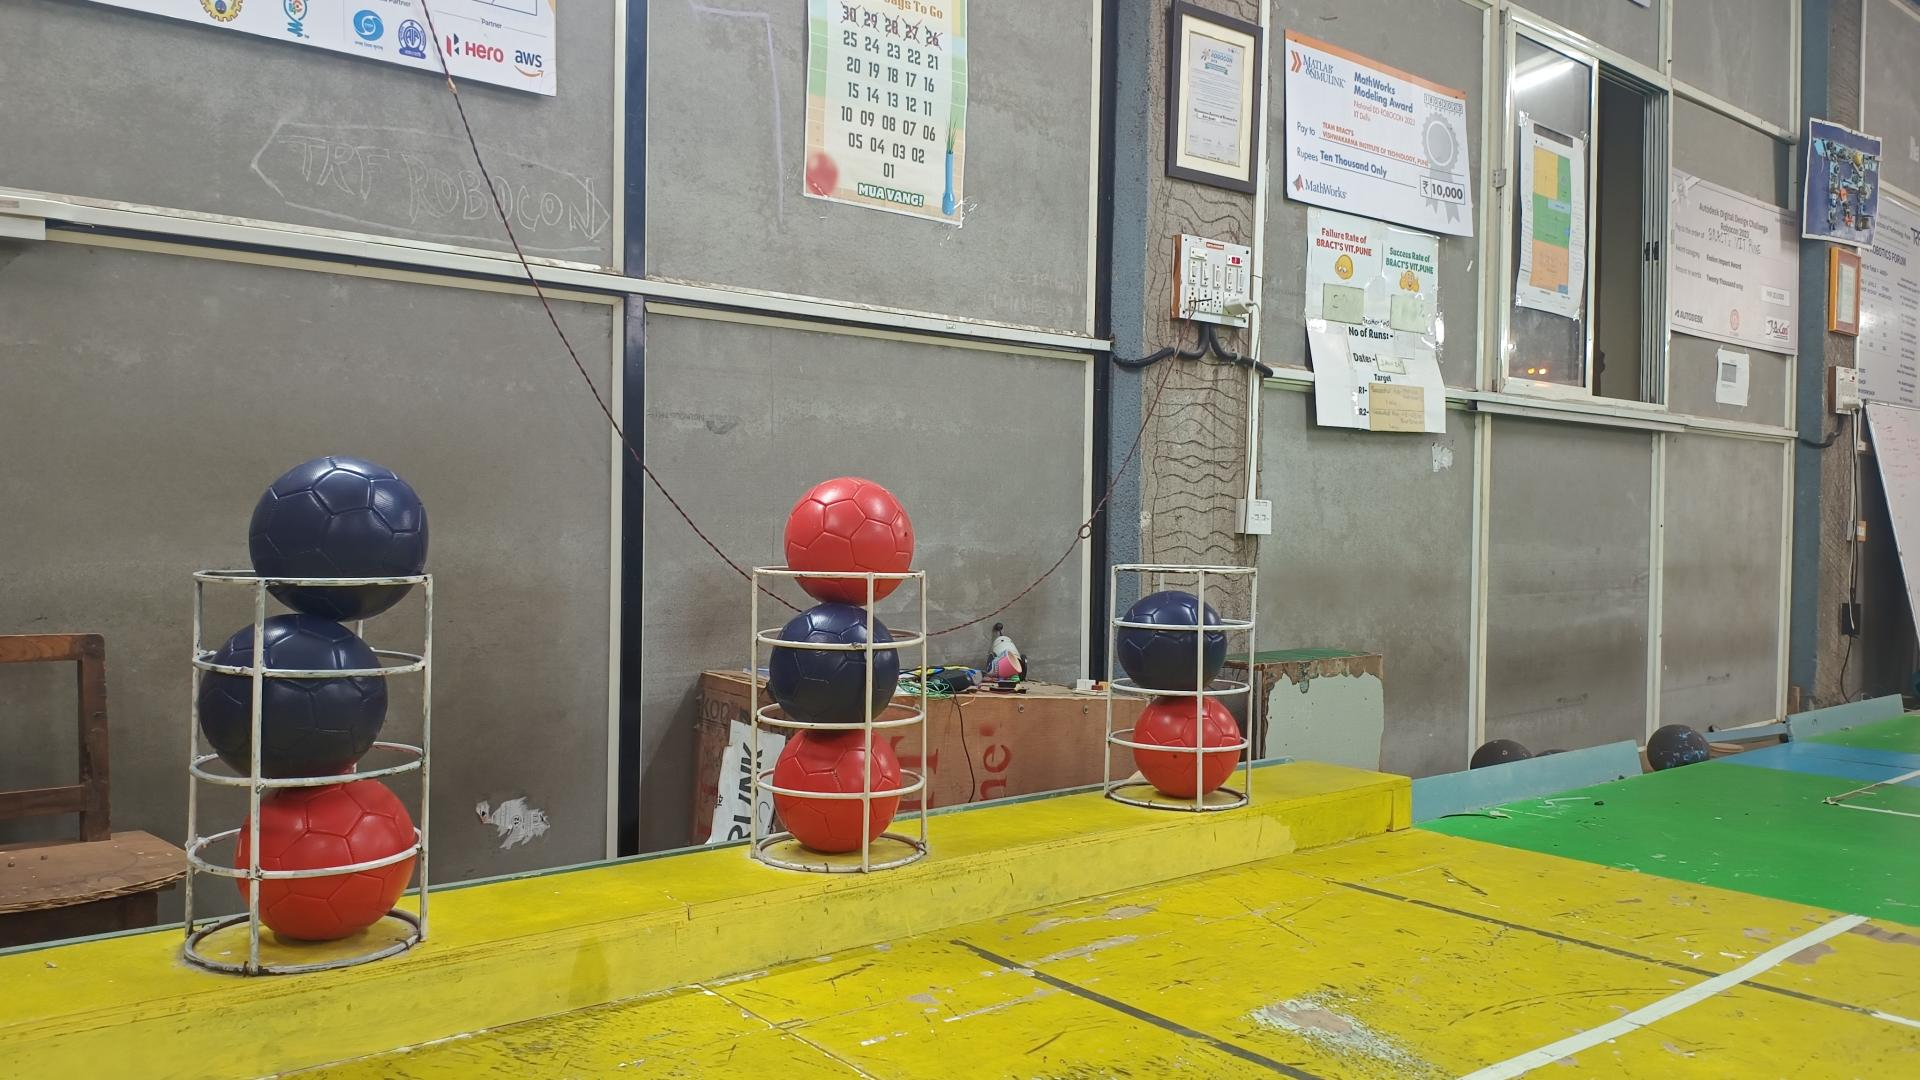dhoka: (199, 611, 386, 779), (249, 454, 429, 622), (769, 604, 901, 724), (1116, 589, 1228, 691)
laale: (233, 779, 421, 942), (785, 477, 916, 604), (773, 728, 905, 852), (1131, 699, 1241, 799)
